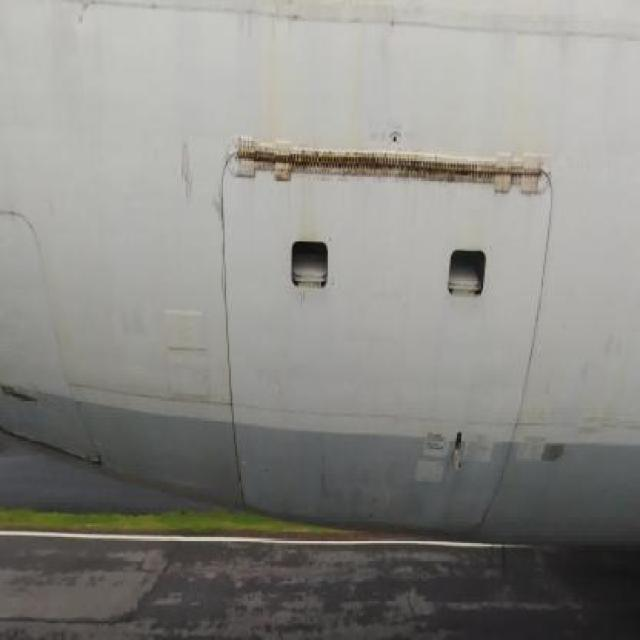Rust: (221, 128, 547, 206), (173, 134, 199, 211)
Scartch: (213, 197, 224, 240)
